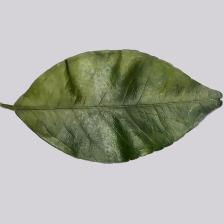healthy: (50, 66, 192, 158)
